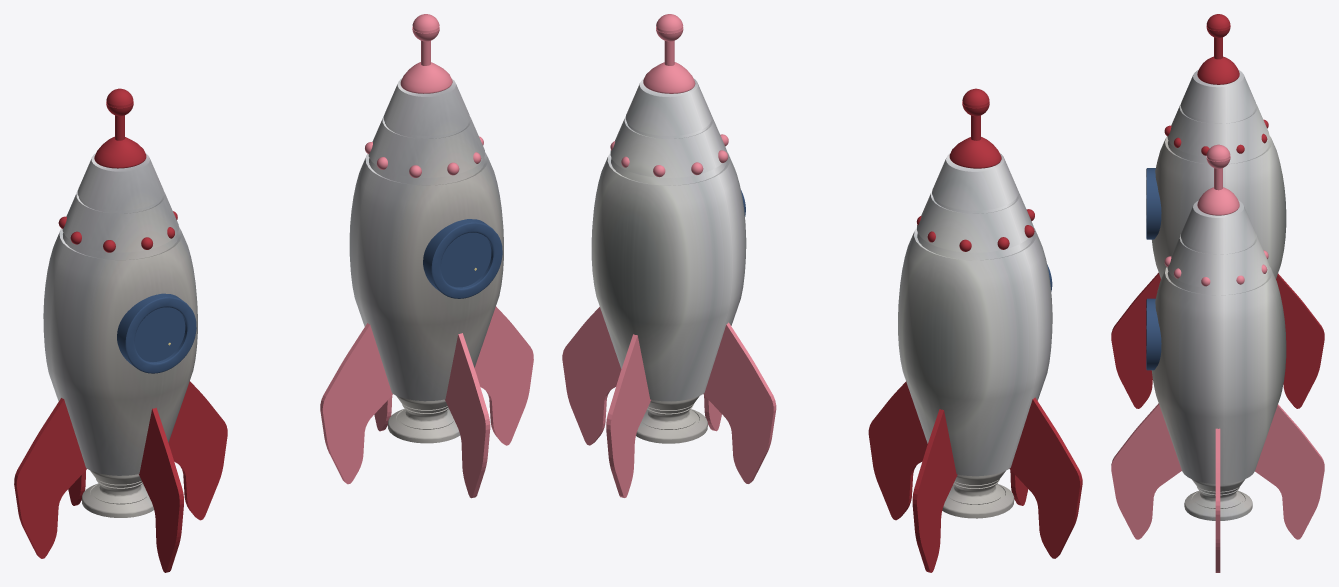
The model's file is cohetes_Dardos.obj.
3 renders of one model, left to right at view 1: azimuth 30°, elevation 25°; view 2: azimuth 150°, elevation 25°; view 3: azimuth 270°, elevation 25°, orthographic. The views are drawn at different scales.
Visible parts, largest first — view 1: Cylinder_Cylinder_001; view 2: Cylinder_Cylinder_001; view 3: Cylinder_Cylinder_001.
Part boxes in pixels (x1,y1,x2,y2): Cylinder_Cylinder_001: (14,14,533,572); Cylinder_Cylinder_001: (562,14,1082,572); Cylinder_Cylinder_001: (1111,14,1324,572).
Bounding box in the file's own units: 9.21 × 7.64 × 3.76.
